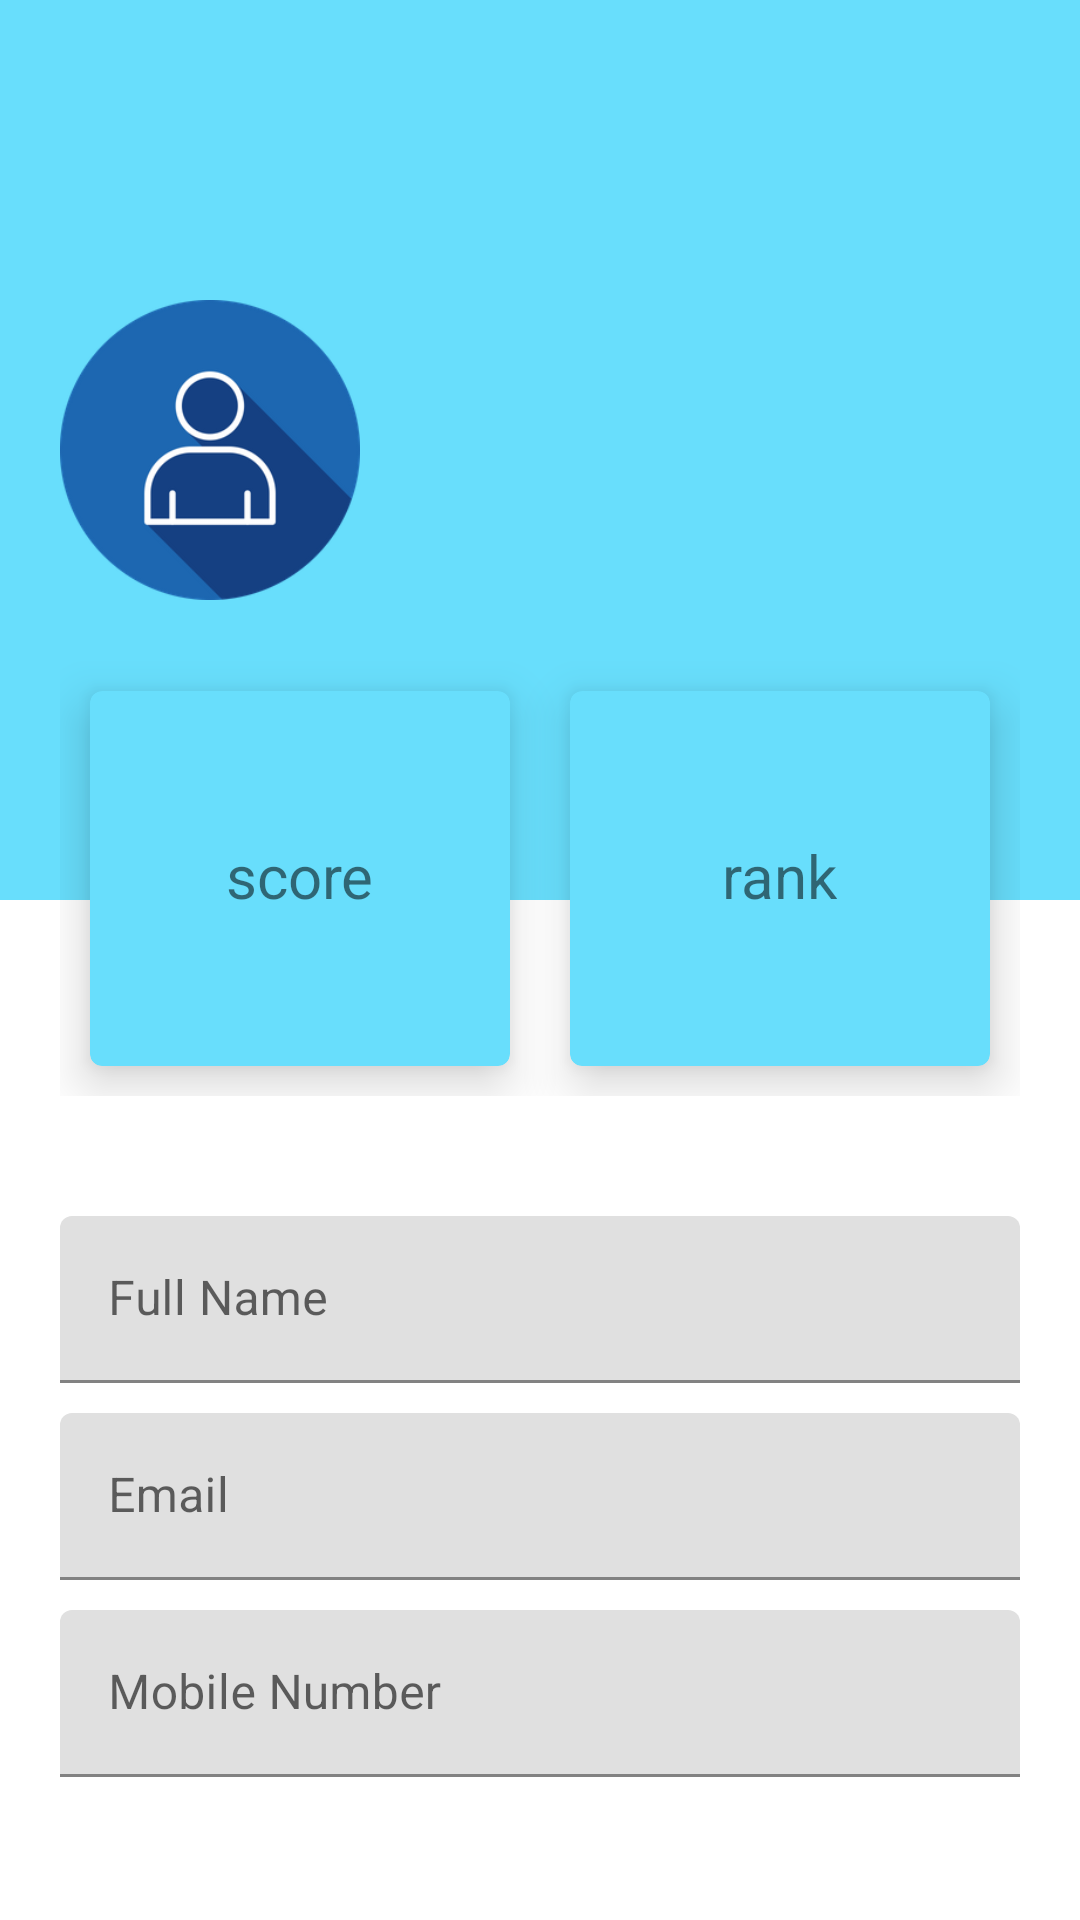

Point at icon controls on the screen. Image size 1080 x 1920, points as [x,y].
profilepic: [210,450]
